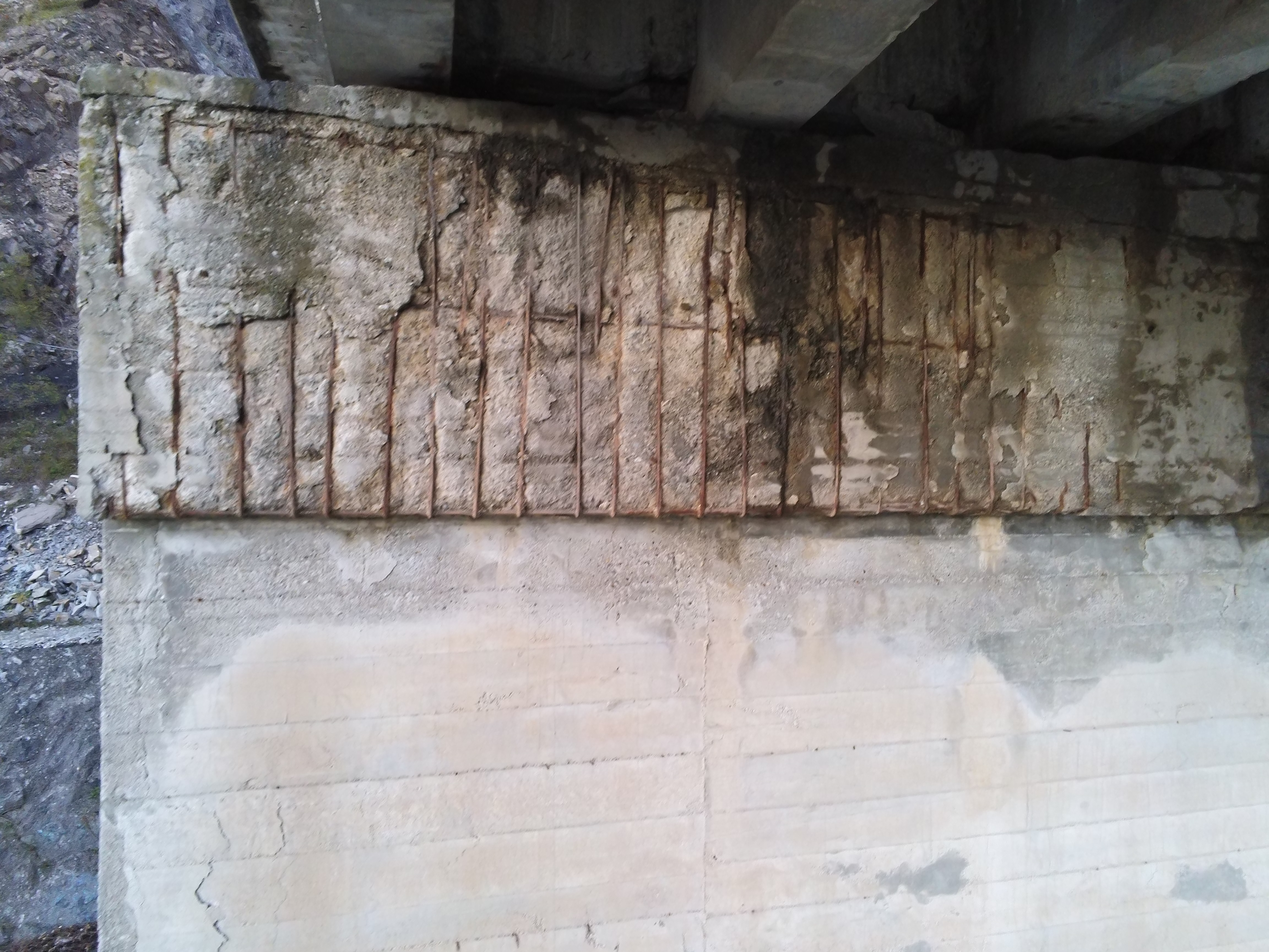Corrosion/Exposed rebar: (91, 77, 1246, 516)
Crack: (96, 573, 192, 804), (178, 797, 283, 947), (1214, 547, 1252, 634)
Leaching: (75, 65, 1264, 526), (100, 524, 1260, 715)
Spalling: (85, 74, 1256, 520)
